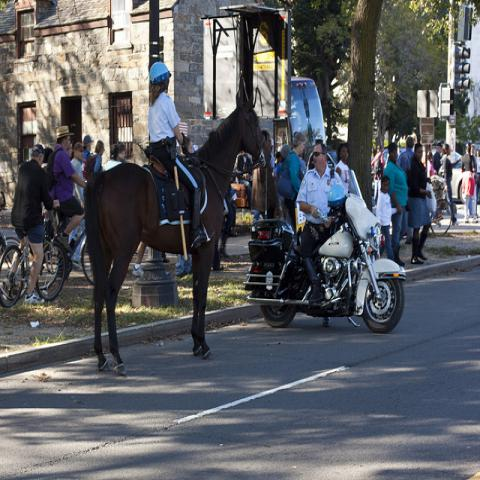bus: (291, 80, 327, 156)
car: (452, 152, 465, 205), (308, 150, 339, 170)
motorcycle: (245, 168, 406, 334)
